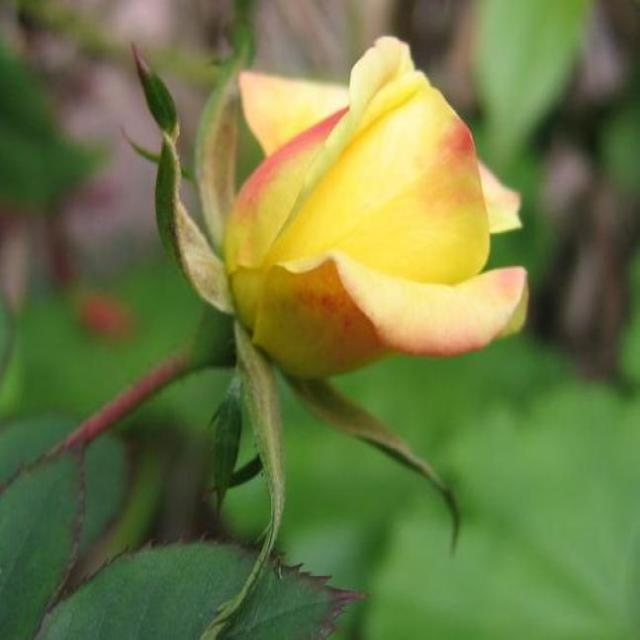rose: (120, 51, 581, 486)
